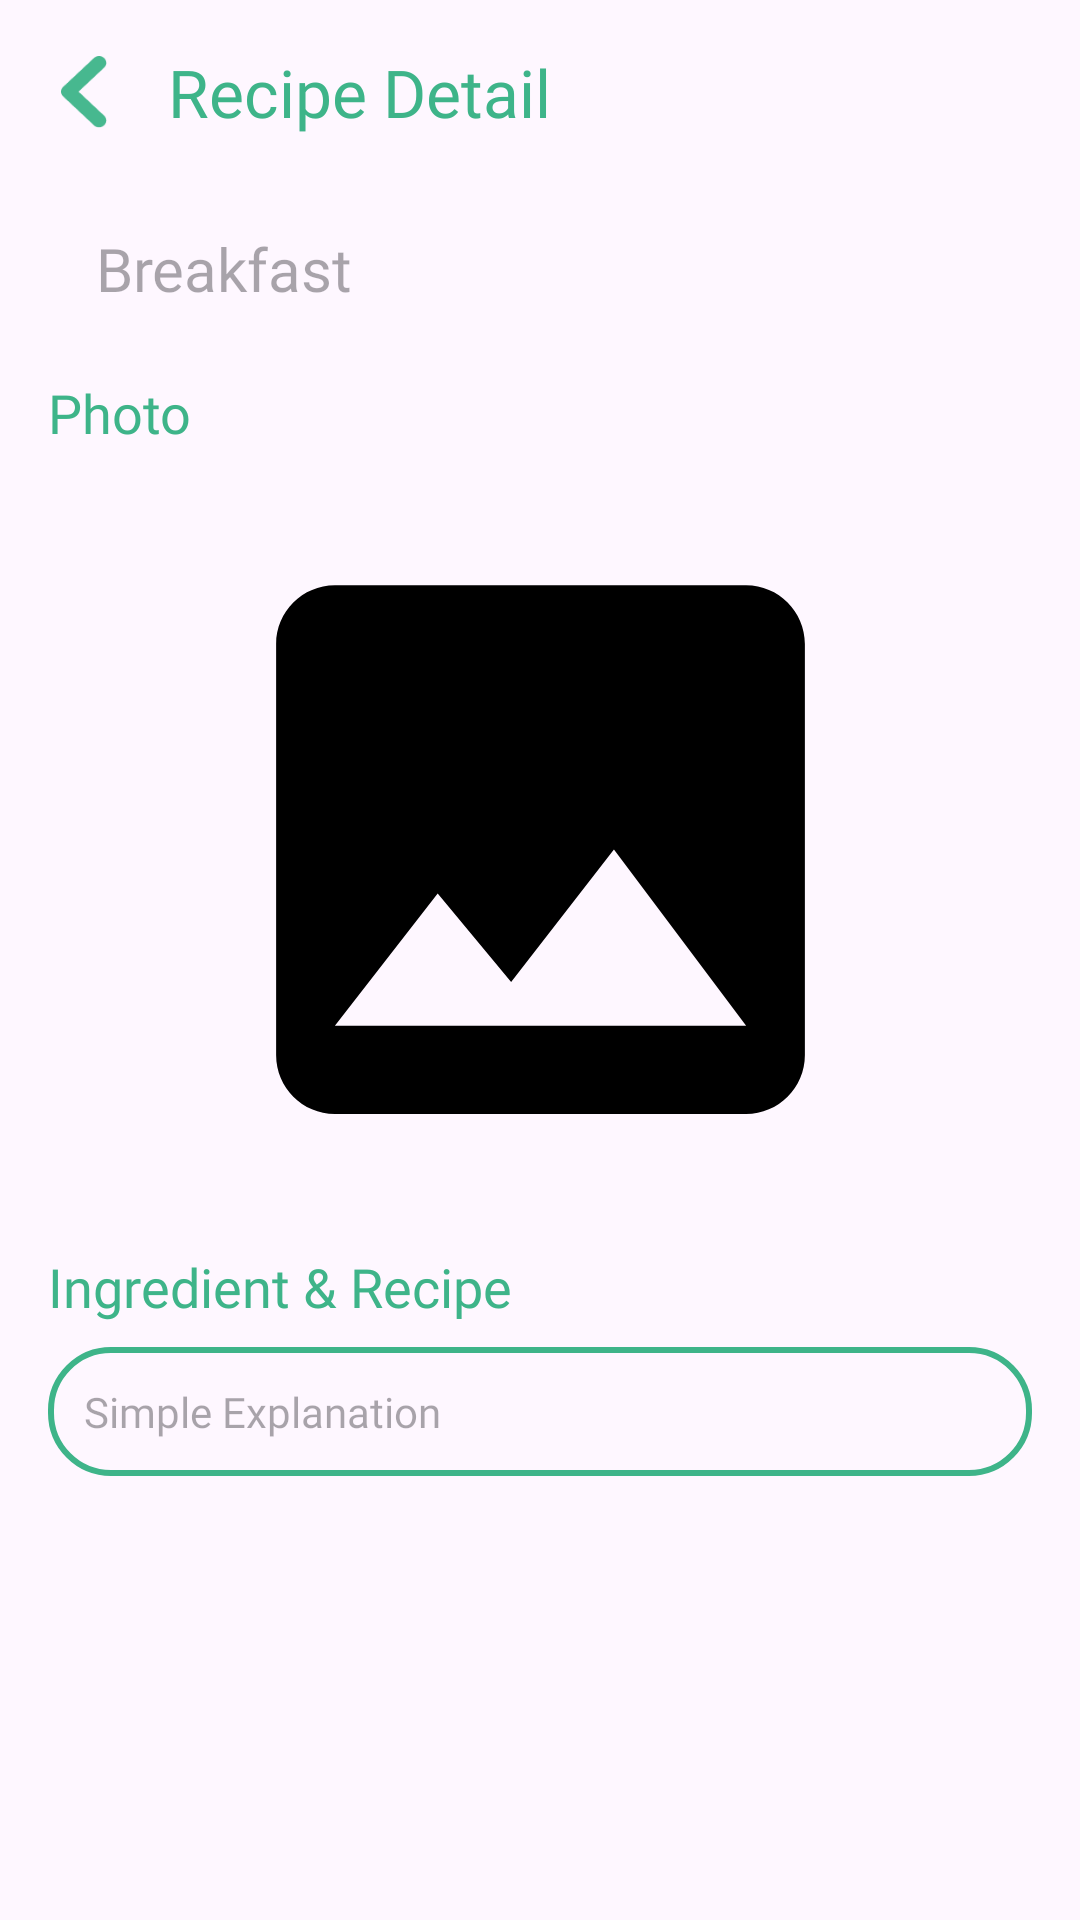

Icon bounding boxes for this 1080w x 1920h phone screenshot, format (x1, y1, x2, y2):
Back: (61, 56, 107, 128)
